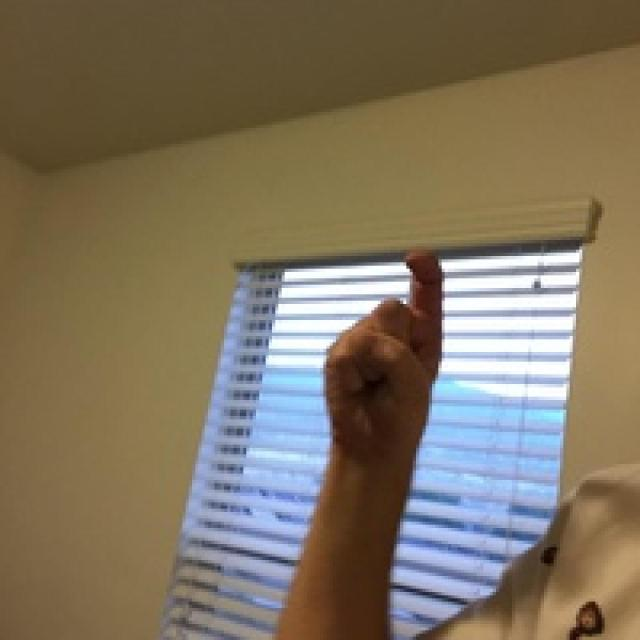X: (255, 186, 486, 470)
